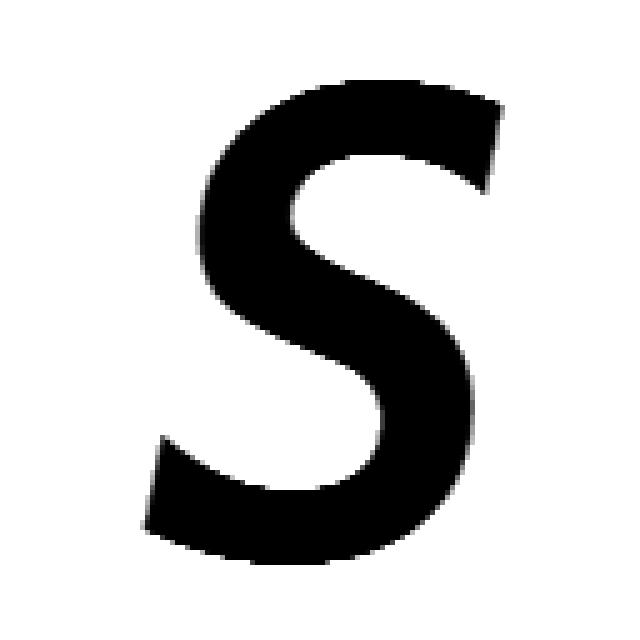S: (135, 65, 510, 570)
